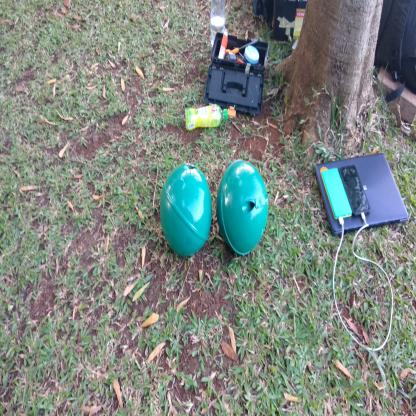green_buoy: (218, 158, 272, 259), (157, 166, 213, 262)
